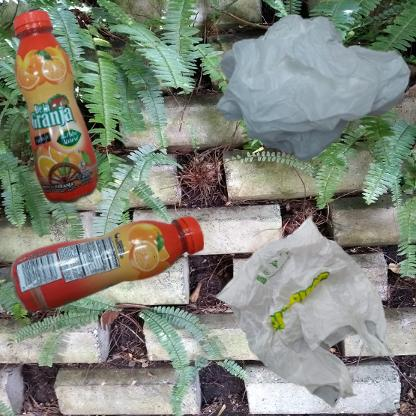bolsa: (213, 213, 397, 409), (213, 10, 416, 170)
botella: (10, 213, 206, 315), (10, 10, 102, 206)
